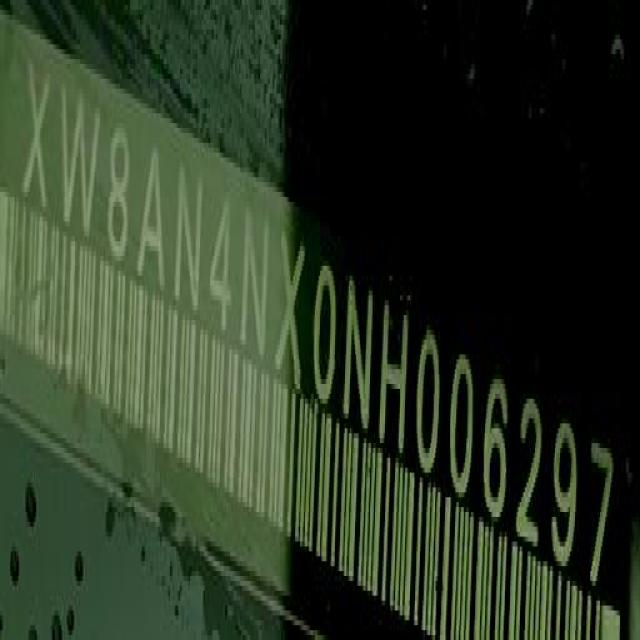0: (312, 254, 338, 416), (450, 347, 475, 505), (417, 322, 441, 479)
2: (519, 392, 543, 555)
4: (211, 192, 233, 337)
6: (482, 370, 508, 526)
7: (590, 437, 616, 600)
8: (108, 125, 130, 266)
9: (549, 414, 578, 577)
A: (135, 140, 165, 294)
H: (382, 300, 412, 461)
N: (341, 276, 375, 428), (237, 205, 269, 365), (176, 165, 206, 318)
W: (58, 77, 96, 244)
X: (22, 64, 52, 222), (276, 225, 303, 387)
